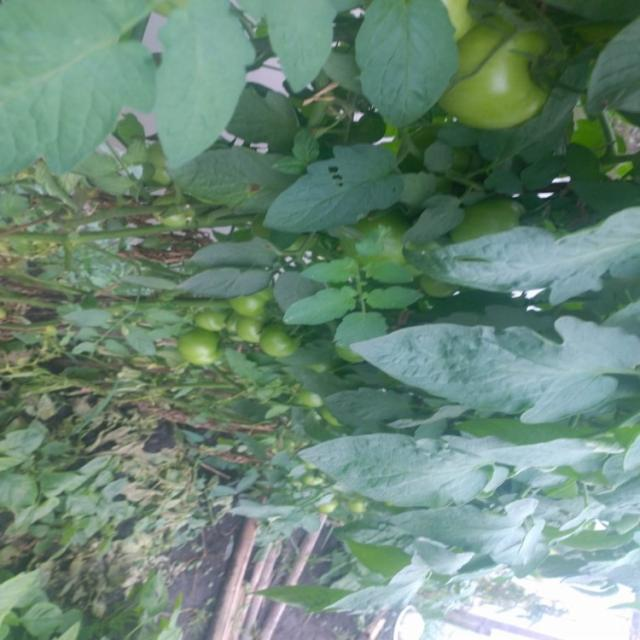tomato: (450, 12, 562, 129), (445, 201, 525, 244), (266, 331, 315, 365), (184, 328, 215, 371), (199, 304, 235, 339), (238, 292, 275, 325), (228, 316, 258, 348)
